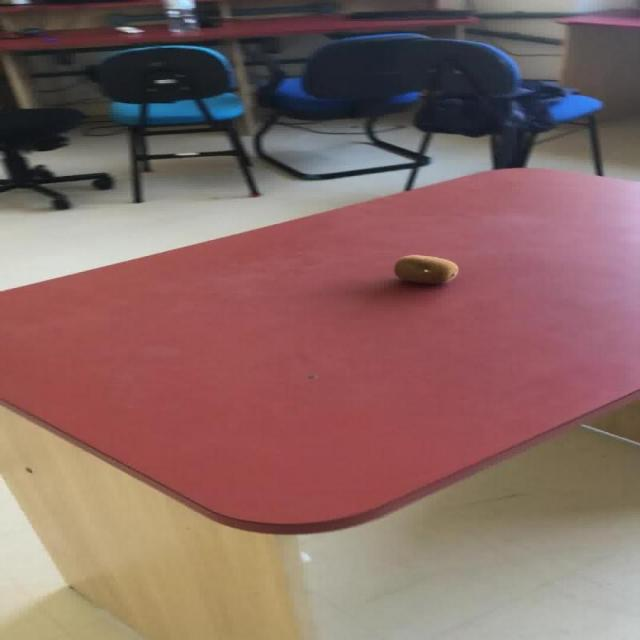Kiwi: (393, 253, 458, 284)
